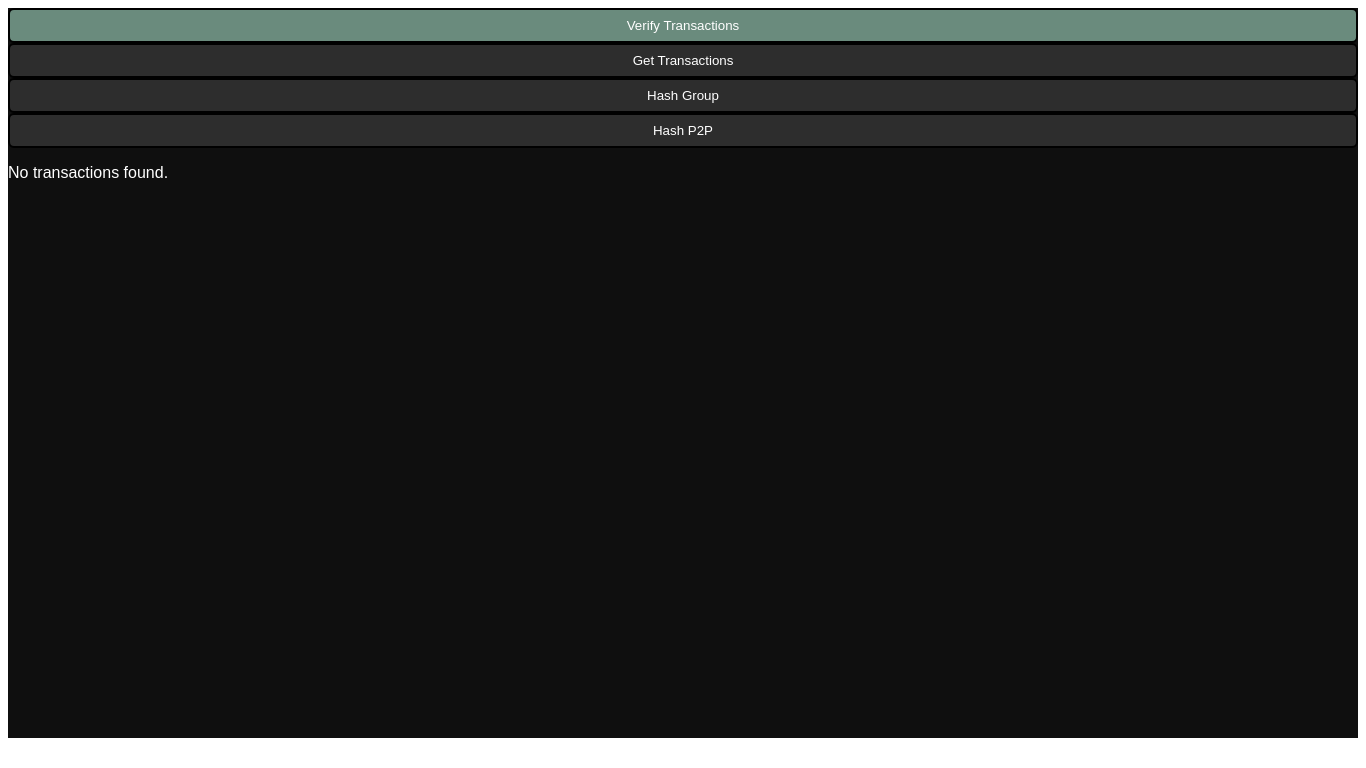
Test case: RequestInterface › should verify group hash when group is selected and verified
This screenshot has width=1366, height=768.
Click the button "Hash Group". click: (683, 96)
box: [8,78,1358,113]
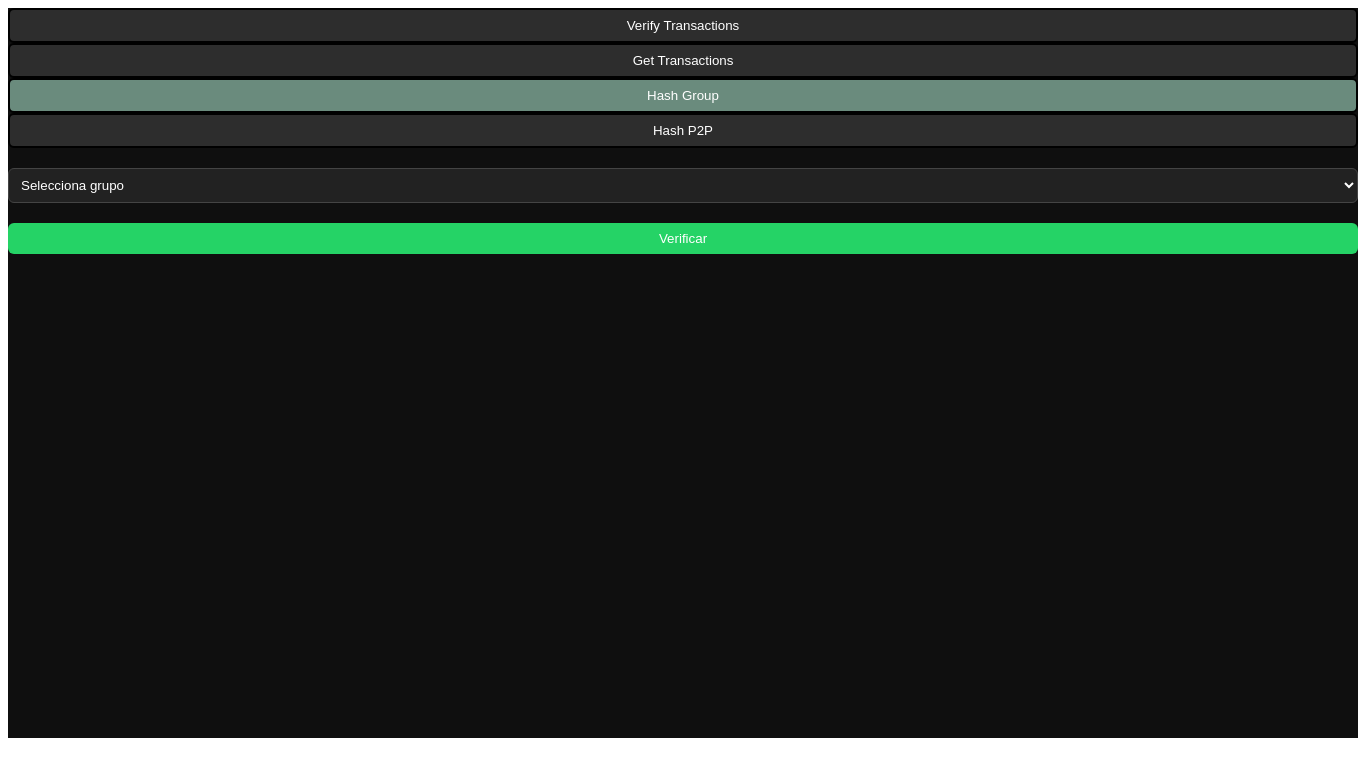
Select "group1" in the dropdown showing "Selecciona grupo". click: (683, 186)
box: [8,168,1358,203]
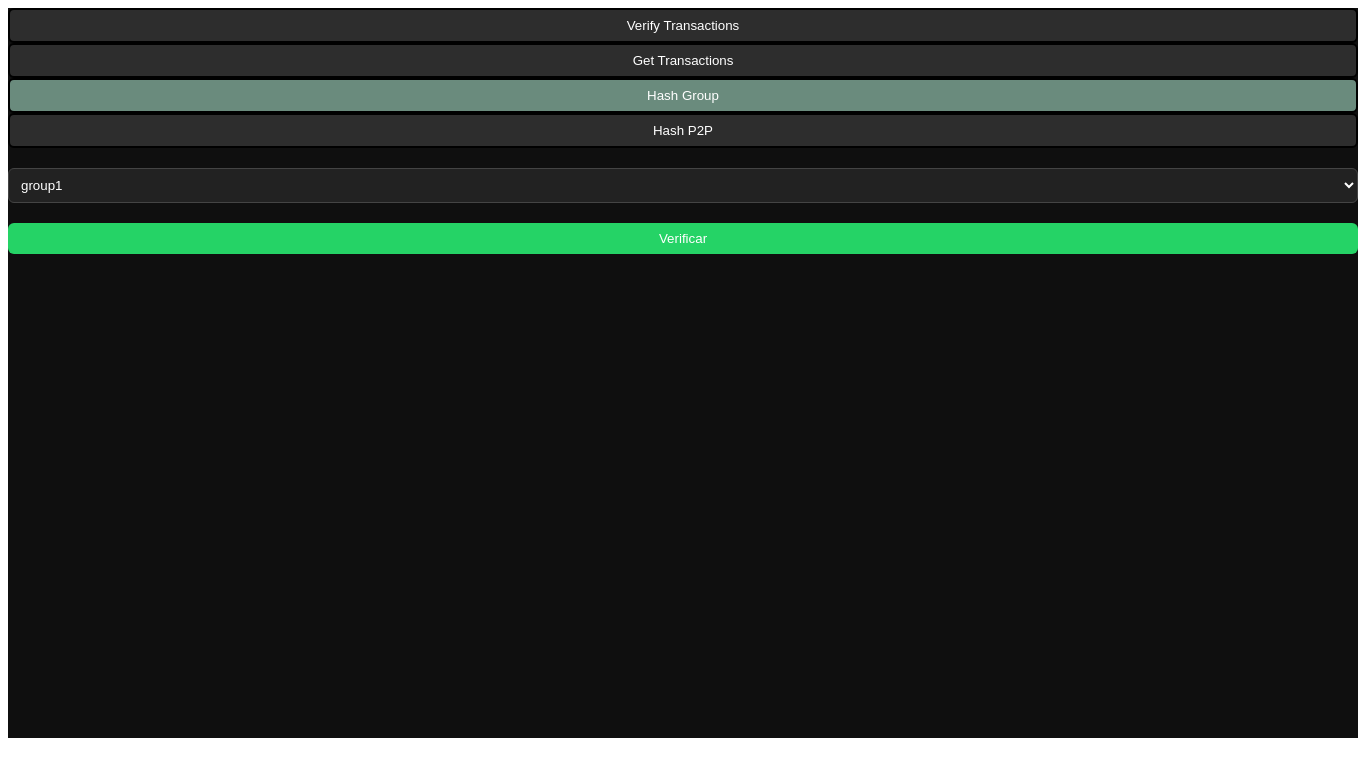
Click the button "Verificar". click: (683, 238)
box: [8,223,1358,254]
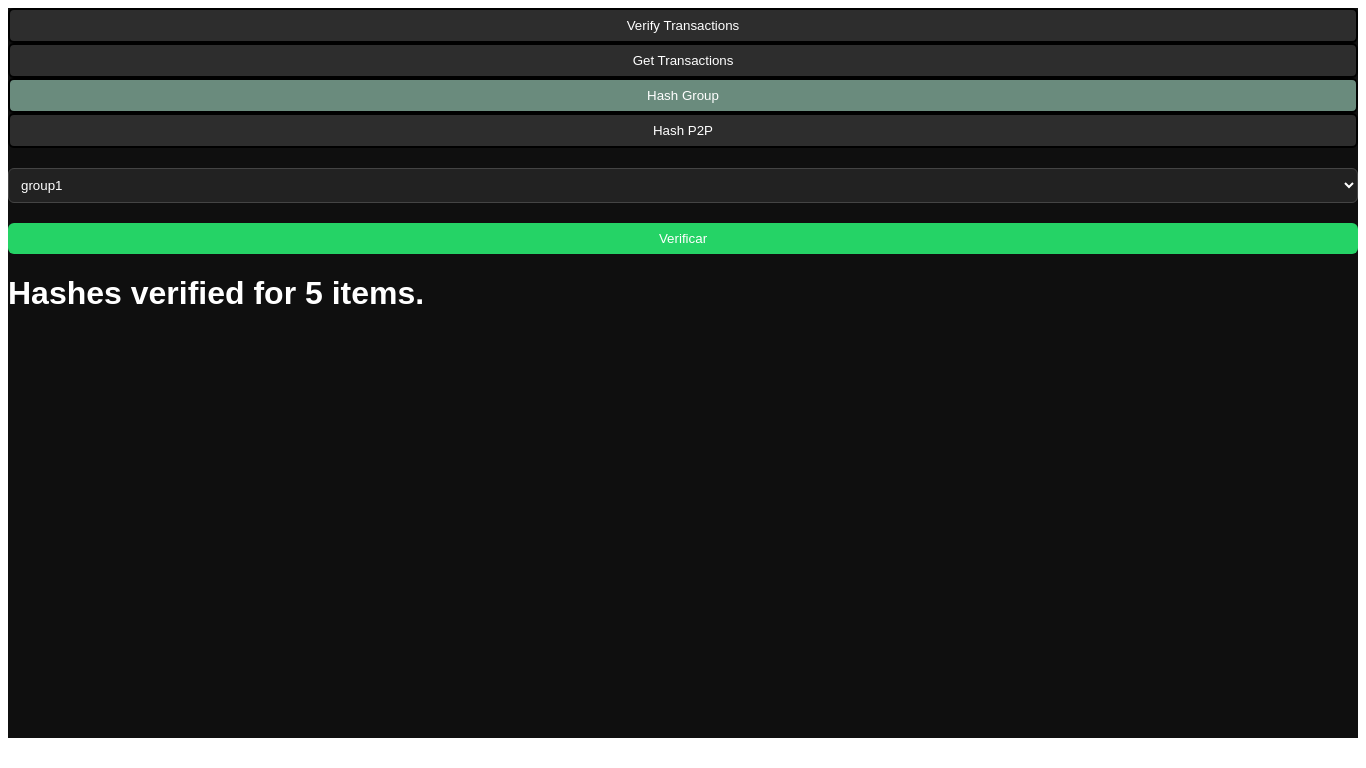
expect the heading "Hashes verified for 5 items." is shown: met, box [8,275,424,311]
